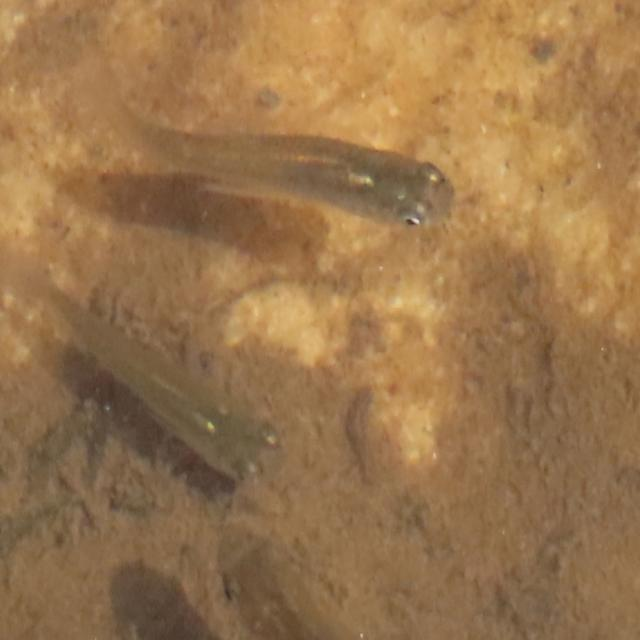Sivrisinek Baligi: (13, 259, 293, 491), (92, 80, 459, 230)
